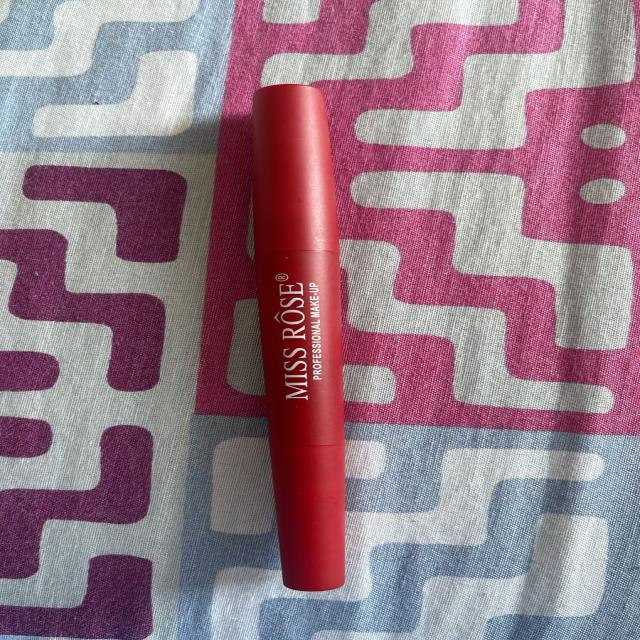lip liner: (200, 83, 385, 599)
